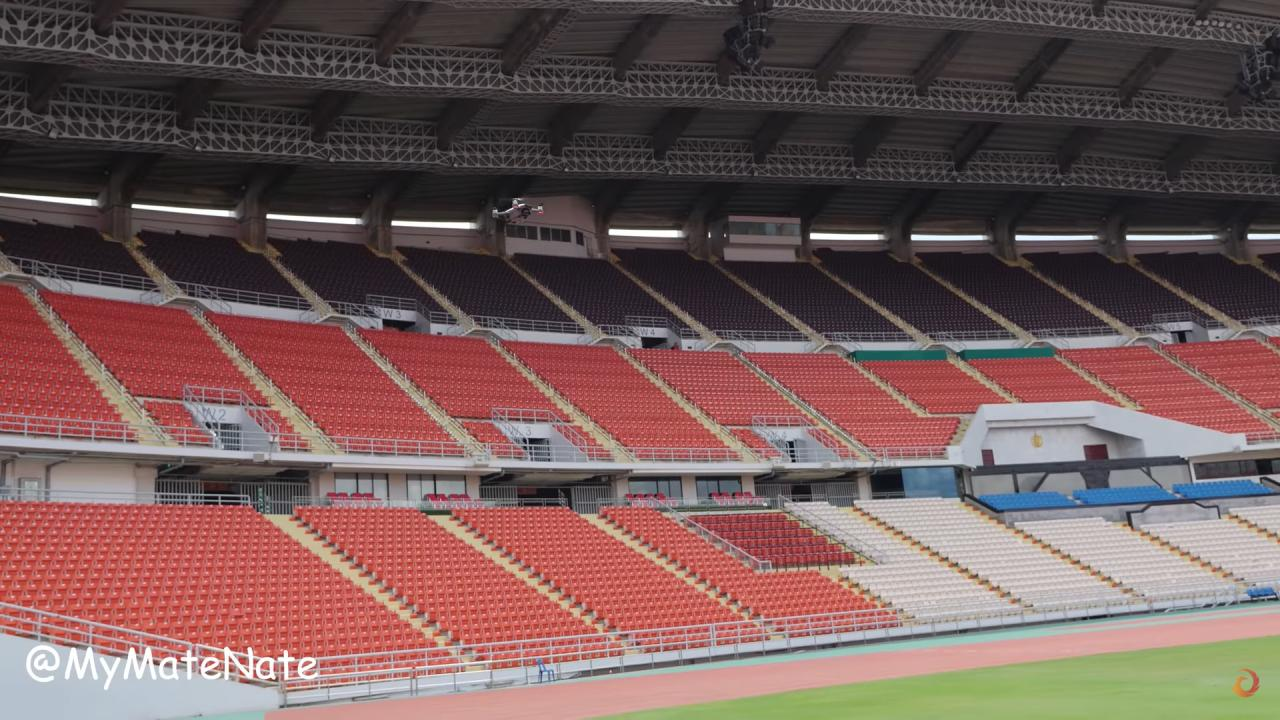Drone: (480, 183, 561, 239)
